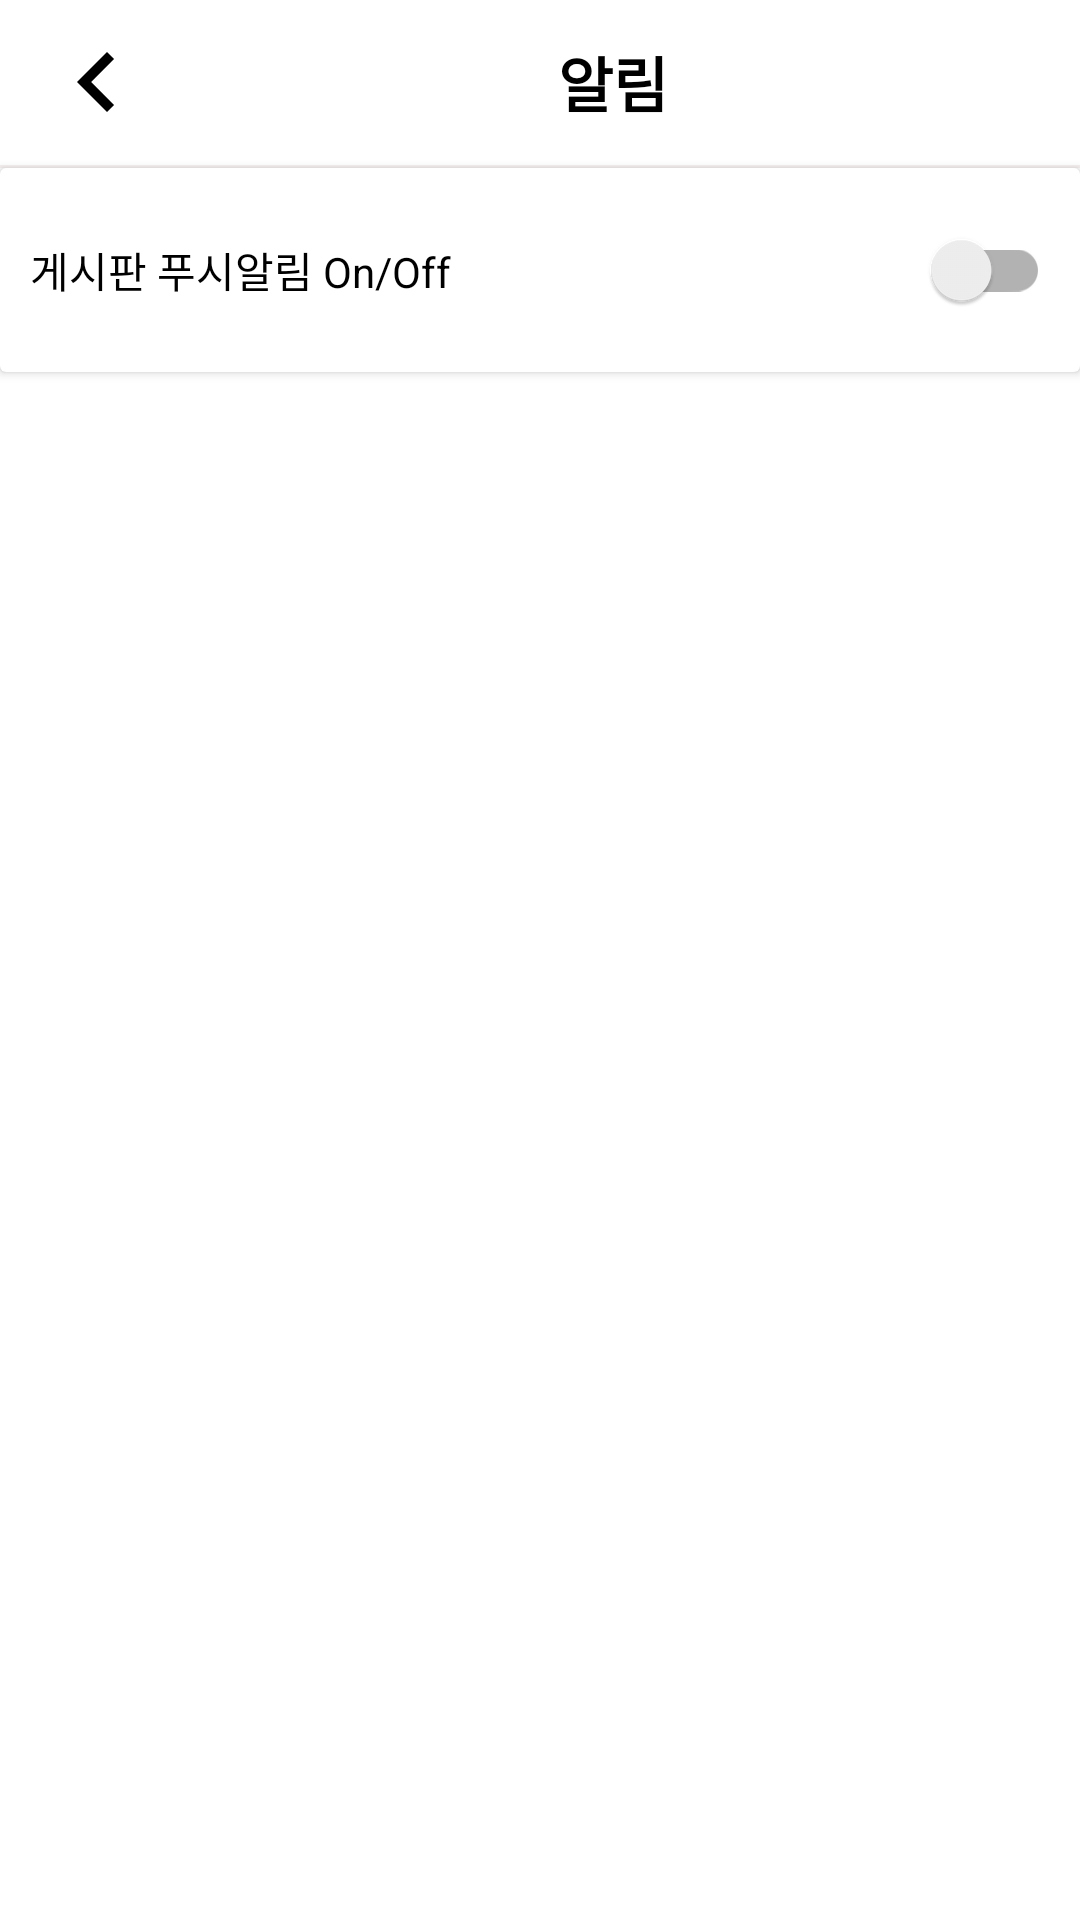

Screen size 1080 x 1920. Icon name, then its box in pixels as box(x1, y1, x2, y2):
navigate before: box(77, 52, 114, 112)
